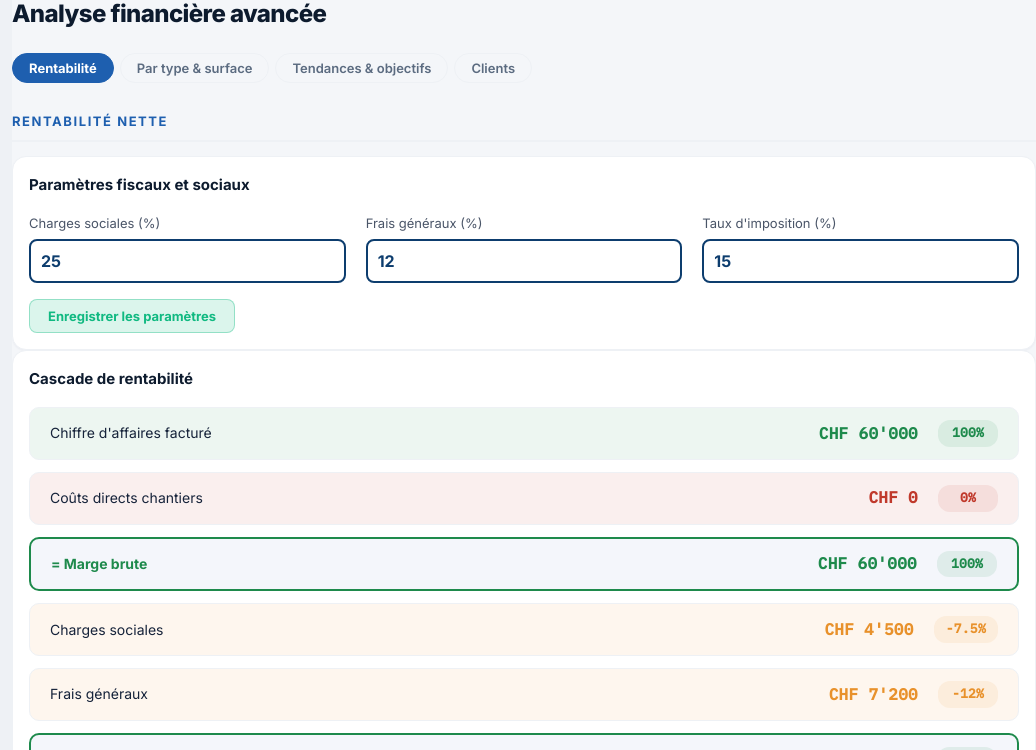
Test case: VUE PAR TYPE & SURFACE — analyse m² (vraies valeurs) › affiche les KPIs m² (surface analysée, CA/m², marge/m²) et le seuil au m²
Click the button "Par type & surface" at (195, 68), box [120,53,269,83]
(page scrolled)
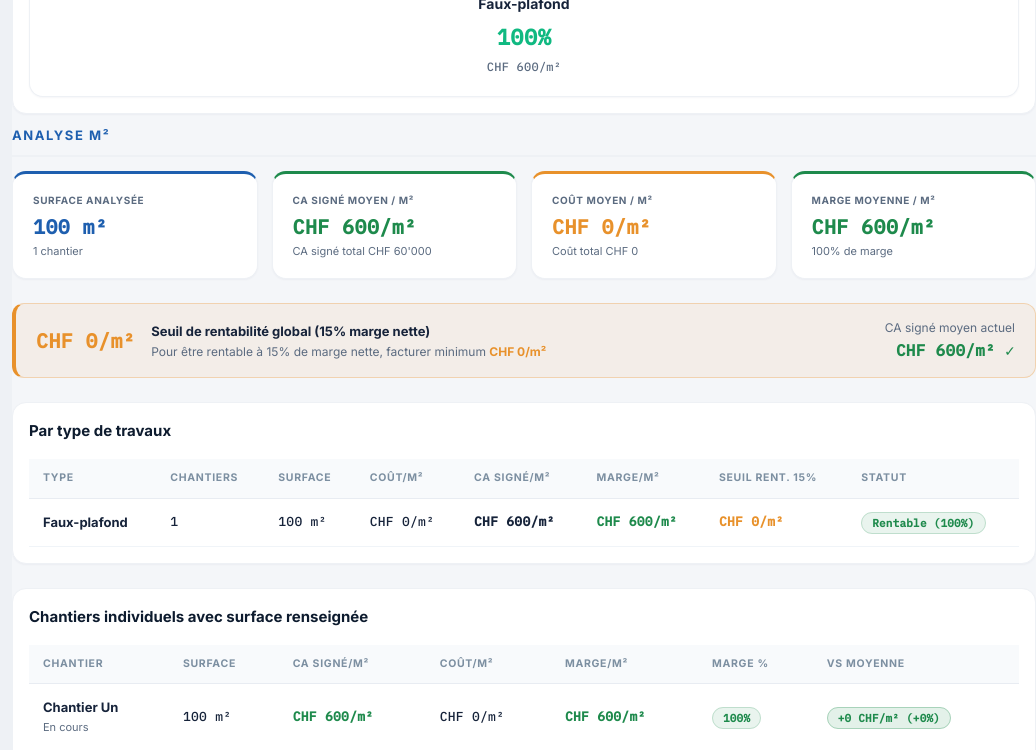
Check: the text "Analyse m²" is shown, box [12,127,110,143]
Check: the text "Surface analysée" is shown, box [33,194,144,206]
Check: the text "CA signé moyen / m²" is shown, box [292,194,414,206]
